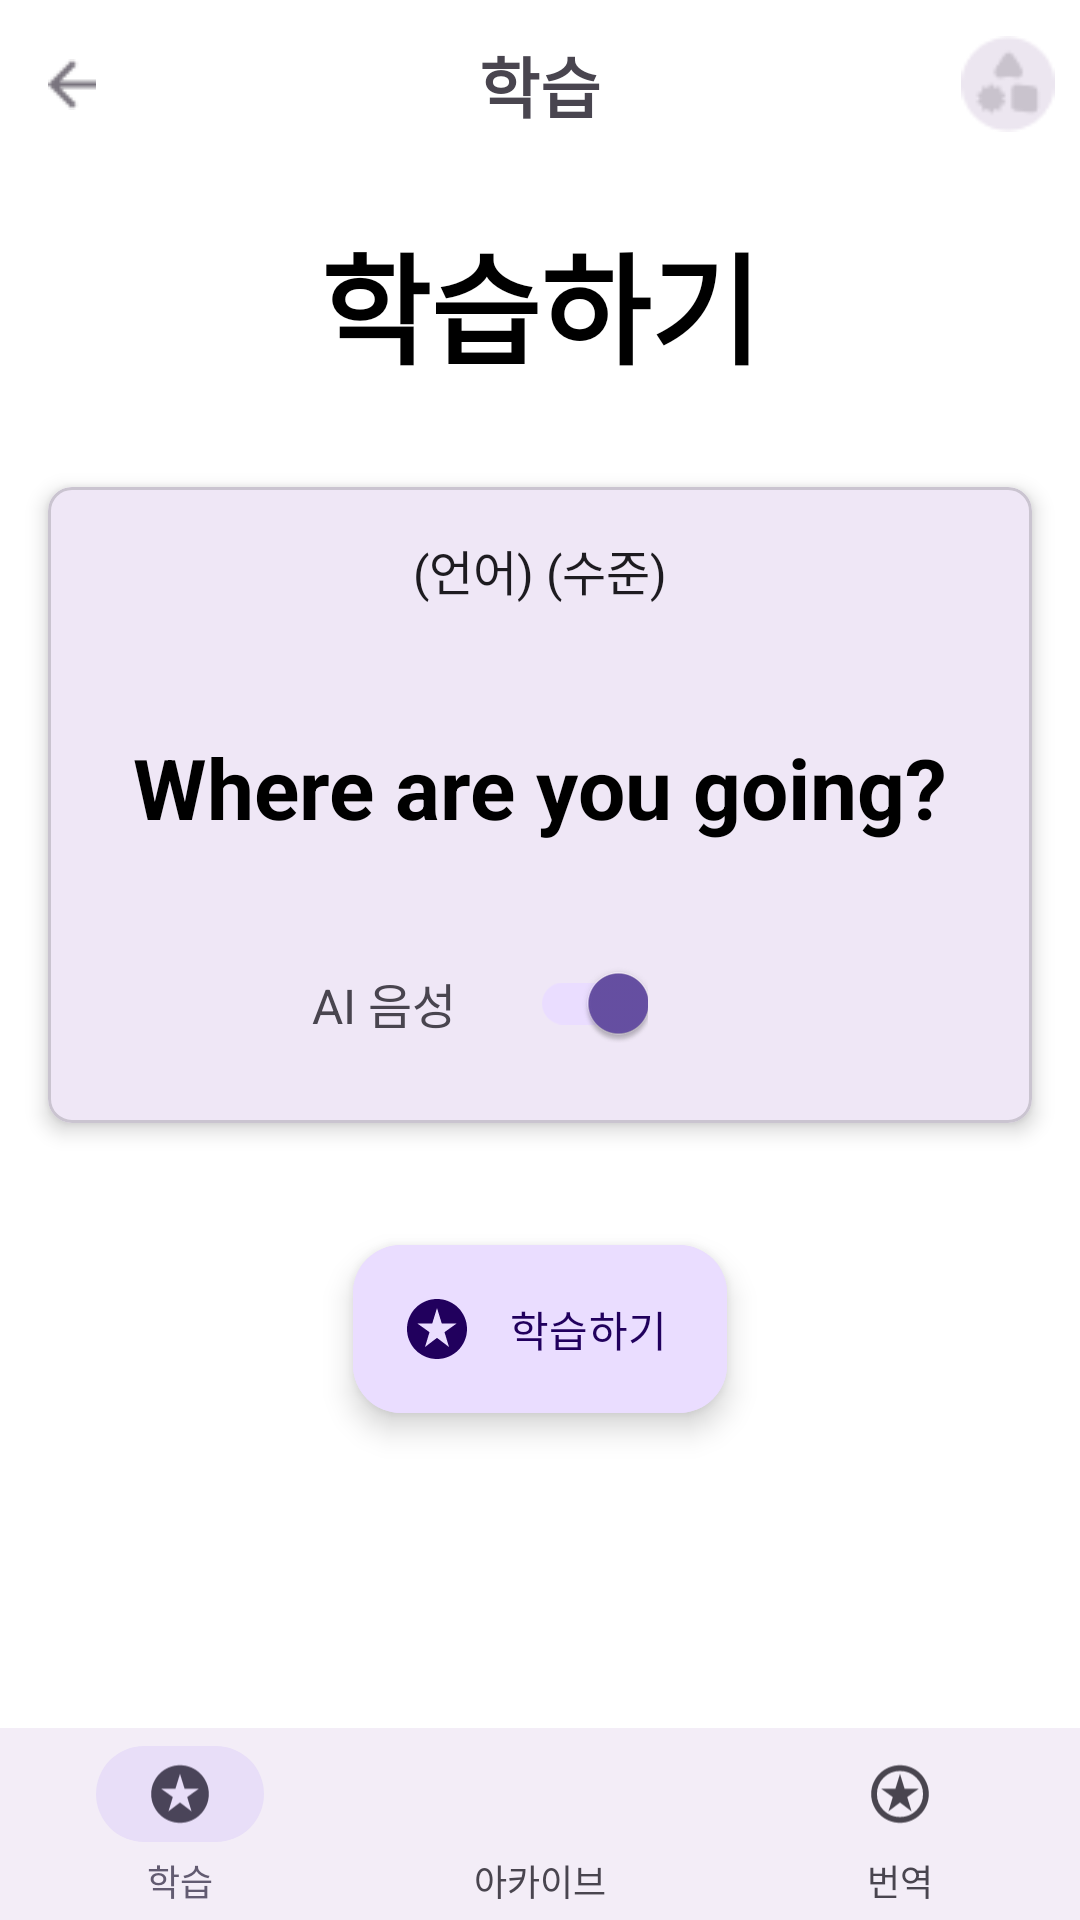

Icons on this 1080w x 1920h Android screen, each with the point to tap as (x,y):
뒤로가기: (72,84)
